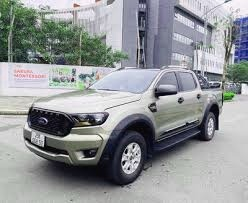Bien-so: (30, 130, 45, 147)
